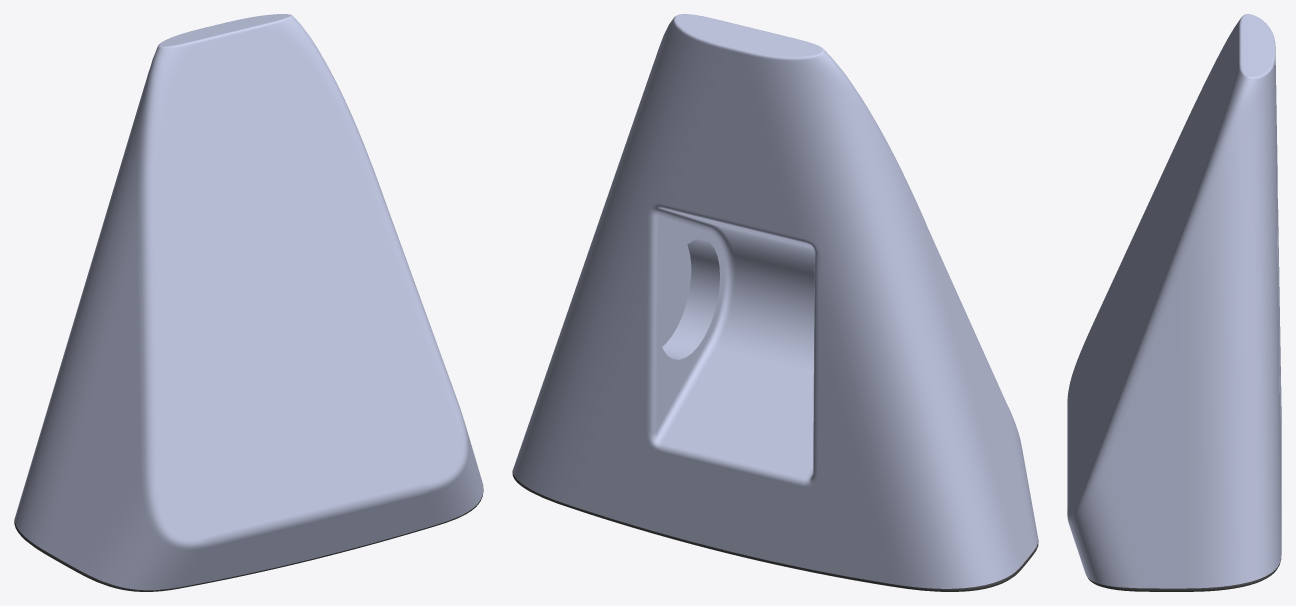
3 views of the same model, side by side, from view 1: azimuth 30°, elevation 25°; view 2: azimuth 150°, elevation 25°; view 3: azimuth 270°, elevation 25° (orthographic). The views are drawn at different scales.
Visible parts, largest first — view 1: Body1; view 2: Body1; view 3: Body1.
Boxes of the visible parts, box(x1,y1,x2,y2) form: Body1: box(14, 14, 483, 591); Body1: box(512, 14, 1038, 591); Body1: box(1067, 14, 1281, 591).
Bounding box in the file's own units: 13.51 × 14.12 × 5.88.
